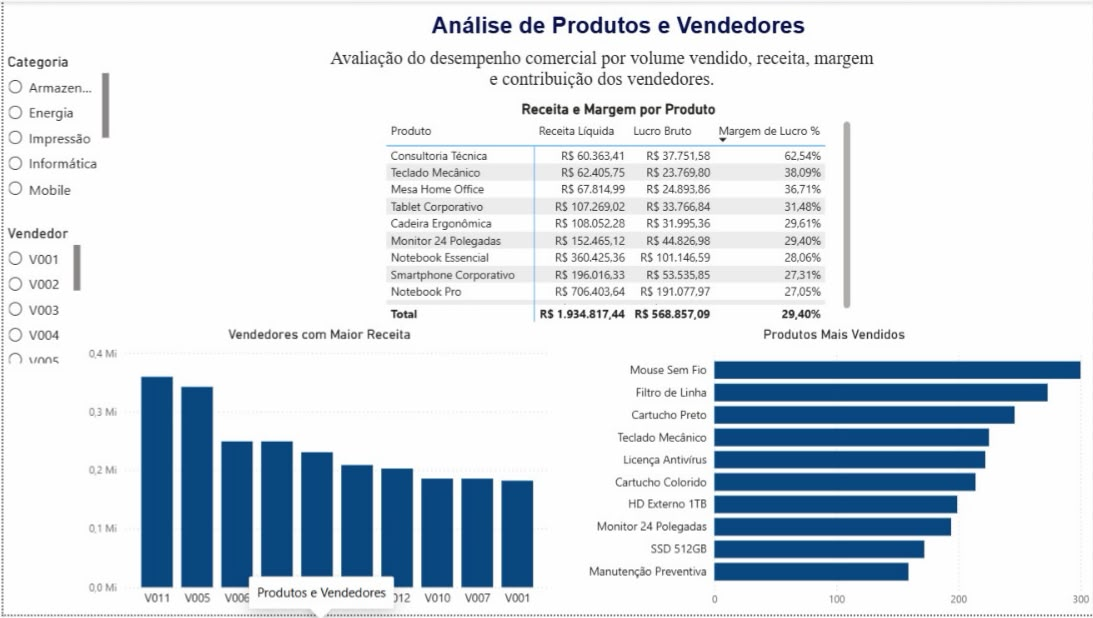

What the dashboard file says about the page in this screenshot:
{"tool":"powerbi","page":{"name":"Produtos e Vendedores","canvas":[1280,720],"ordinal":1},"visuals":[{"type":"textbox","box":[414.5,8.6,616.3,59.9],"z":0},{"type":"textbox","box":[375.4,48.9,655.4,67.3],"z":1000},{"type":"barChart","title":"Produtos Mais Vendidos","fields":{"Category":["tbl_Dim_Produtos.Produto"],"Y":["tbl_Dim_Calendario.Quantidade Vendida"]},"box":[671.3,381.5,609,338.7],"z":2000},{"type":"columnChart","title":" Vendedores com Maior Receita","fields":{"Y":["Sum(tbl_Fato_Vendas.Receita_Liquida)"],"Category":["tbl_Dim_Vendedores.ID_Vendedor"]},"box":[95.4,381.5,551.5,338.7],"z":3000},{"type":"listSlicer","fields":{"Values":["tbl_Dim_Produtos.Categoria"]},"box":[0,59.9,129.6,181],"z":4000},{"type":"listSlicer","fields":{"Values":["tbl_Dim_Vendedores.ID_Vendedor"]},"box":[0,261.7,95.4,168.8],"z":5000},{"type":"pivotTable","title":"Receita e Margem por Produto","fields":{"Rows":["tbl_Dim_Produtos.Produto"],"Values":["tbl_Dim_Calendario.Receita Líquida","tbl_Dim_Calendario.Lucro Bruto","tbl_Dim_Calendario.Margem de Lucro %"]},"box":[445.1,116.2,555.2,265.4],"z":6000}]}

Visuals, with their boxes in screenshot pixels (x1, y1, x2, y2), scaled from the page's 1280x720 canvas onto the 1093x618 screenshot:
textbox: bbox=[354, 7, 880, 59]
textbox: bbox=[321, 42, 880, 100]
"Produtos Mais Vendidos" barChart: bbox=[573, 327, 1092, 617]
" Vendedores com Maior Receita" columnChart: bbox=[81, 327, 552, 617]
listSlicer - tbl_Dim_Produtos.Categoria: bbox=[0, 51, 111, 207]
listSlicer - tbl_Dim_Vendedores.ID_Vendedor: bbox=[0, 225, 81, 370]
"Receita e Margem por Produto" pivotTable: bbox=[380, 100, 854, 328]
